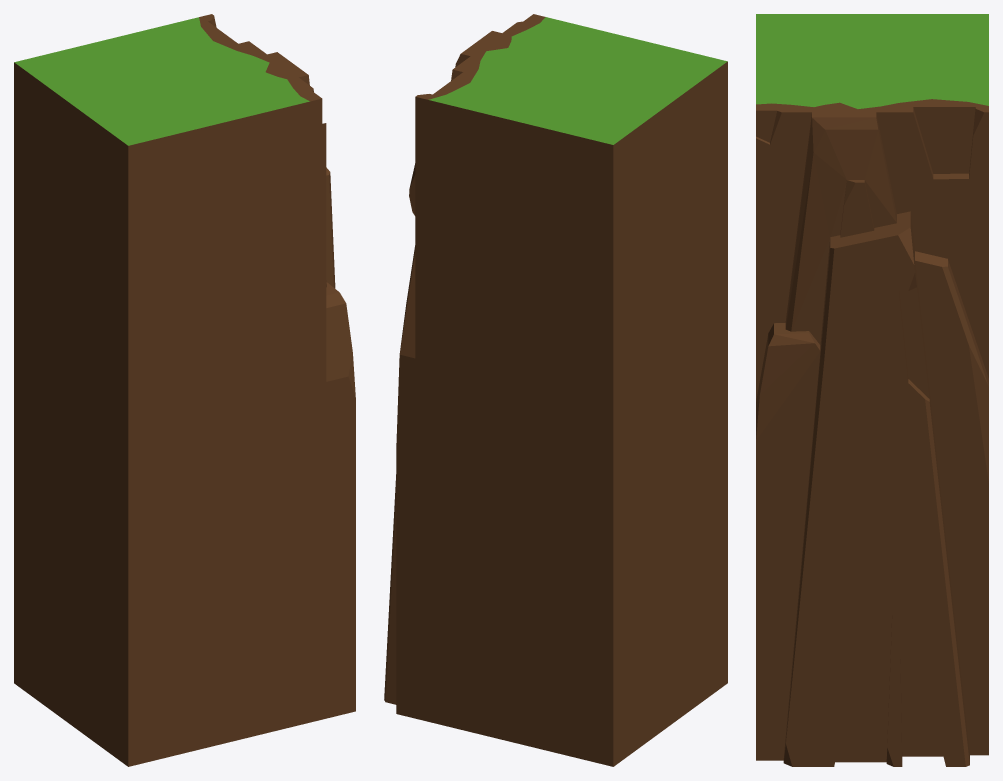
Rendered from Cliff x3 3.fbx.
3 views of the same model, side by side, from view 1: azimuth 30°, elevation 25°; view 2: azimuth 150°, elevation 25°; view 3: azimuth 270°, elevation 25° (orthographic).
Parts seen in each view (by area): view 1: Cliff x3 3; view 2: Cliff x3 3; view 3: Cliff x3 3.
Part boxes in pixels (box(x1,y1,x2,y2)): Cliff x3 3: box(14, 14, 355, 766); Cliff x3 3: box(384, 14, 727, 766); Cliff x3 3: box(756, 14, 988, 766).
Size of the model in its own units: 243 by 600 by 200.
